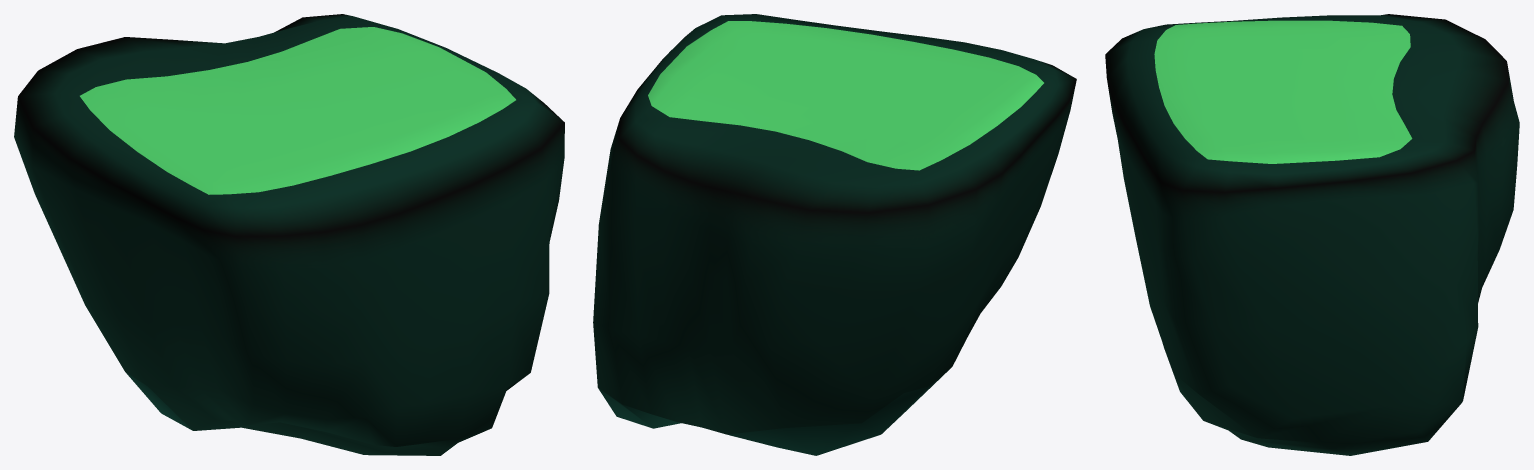
The model's file is New_Land_04.fbx.
3 views of the same model, side by side, from view 1: azimuth 30°, elevation 25°; view 2: azimuth 150°, elevation 25°; view 3: azimuth 270°, elevation 25° (orthographic). The views are drawn at different scales.
Parts seen in each view (by area): view 1: Land_04_low1; view 2: Land_04_low1; view 3: Land_04_low1.
Boxes of the visible parts, left/top/right/bottom form: Land_04_low1: left=14, top=14, right=564, bottom=455; Land_04_low1: left=593, top=14, right=1076, bottom=455; Land_04_low1: left=1105, top=14, right=1519, bottom=455.
Size of the model in its own units: 1514 by 1245 by 1530.
